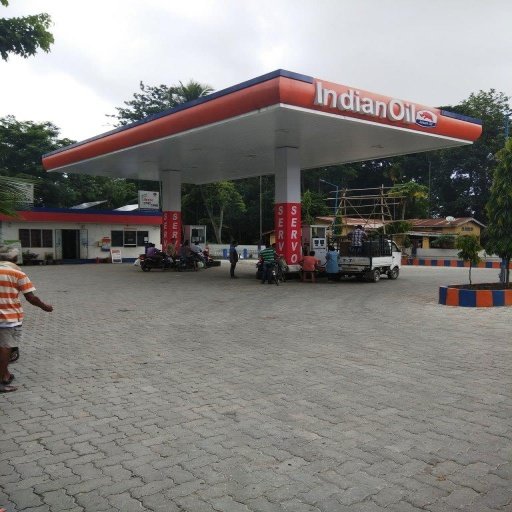roof: (43, 66, 485, 201)
